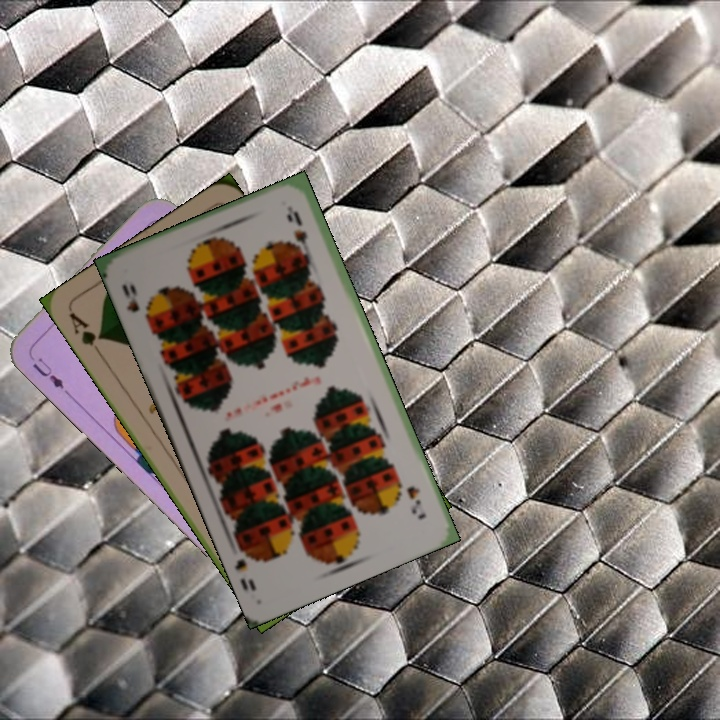EU: (28, 353, 67, 392)
GA: (65, 308, 106, 360)
S9: (117, 280, 154, 328), (402, 482, 429, 522)
